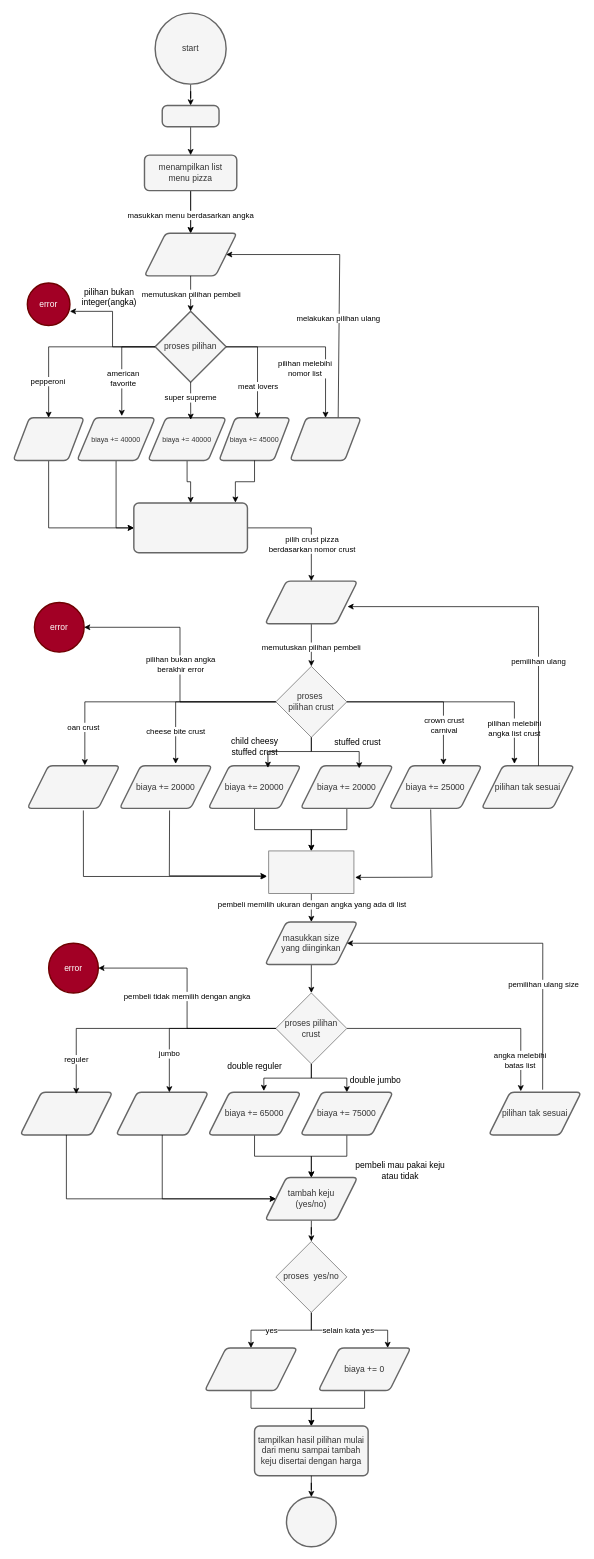
Image size: 594x1559. Some labels were removed from this diagram. The centre of each missing label's shape, as x and y in pixels:
biaya += 10000: point 250,1369
biaya += 15000: point 73,787
biaya += 30000: point 48,439
biaya += 50000: point 66,1113
biaya += 60000: point 162,1113
biaya = 0: point 190,115
menampilkan crust pizza: point 190,527
menampilkan list size pizza: point 311,872
pilih crust yang diinginkan: point 311,602
pilih menu: point 190,254
pilihan tidak sesuai: point 325,439
selesai: point 311,1521
